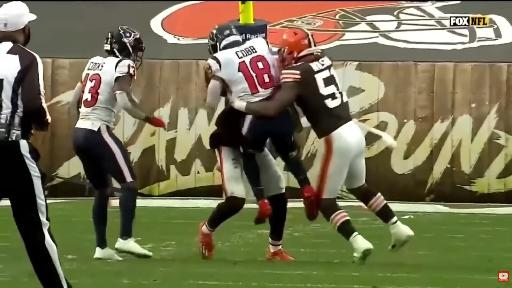Helmet: (104, 26, 144, 68), (278, 28, 320, 67), (208, 24, 242, 54)
Jersey: (281, 56, 352, 138), (207, 39, 278, 102), (76, 57, 136, 130)
Player: (231, 29, 413, 262), (72, 26, 165, 260), (240, 110, 314, 224), (200, 106, 250, 259)
